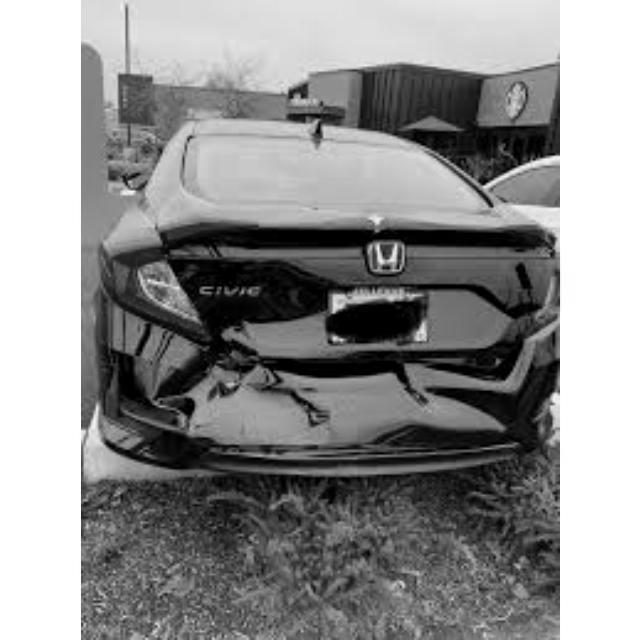boot-dent: (176, 199, 535, 364)
rear-bumper-dent: (155, 343, 524, 472)
